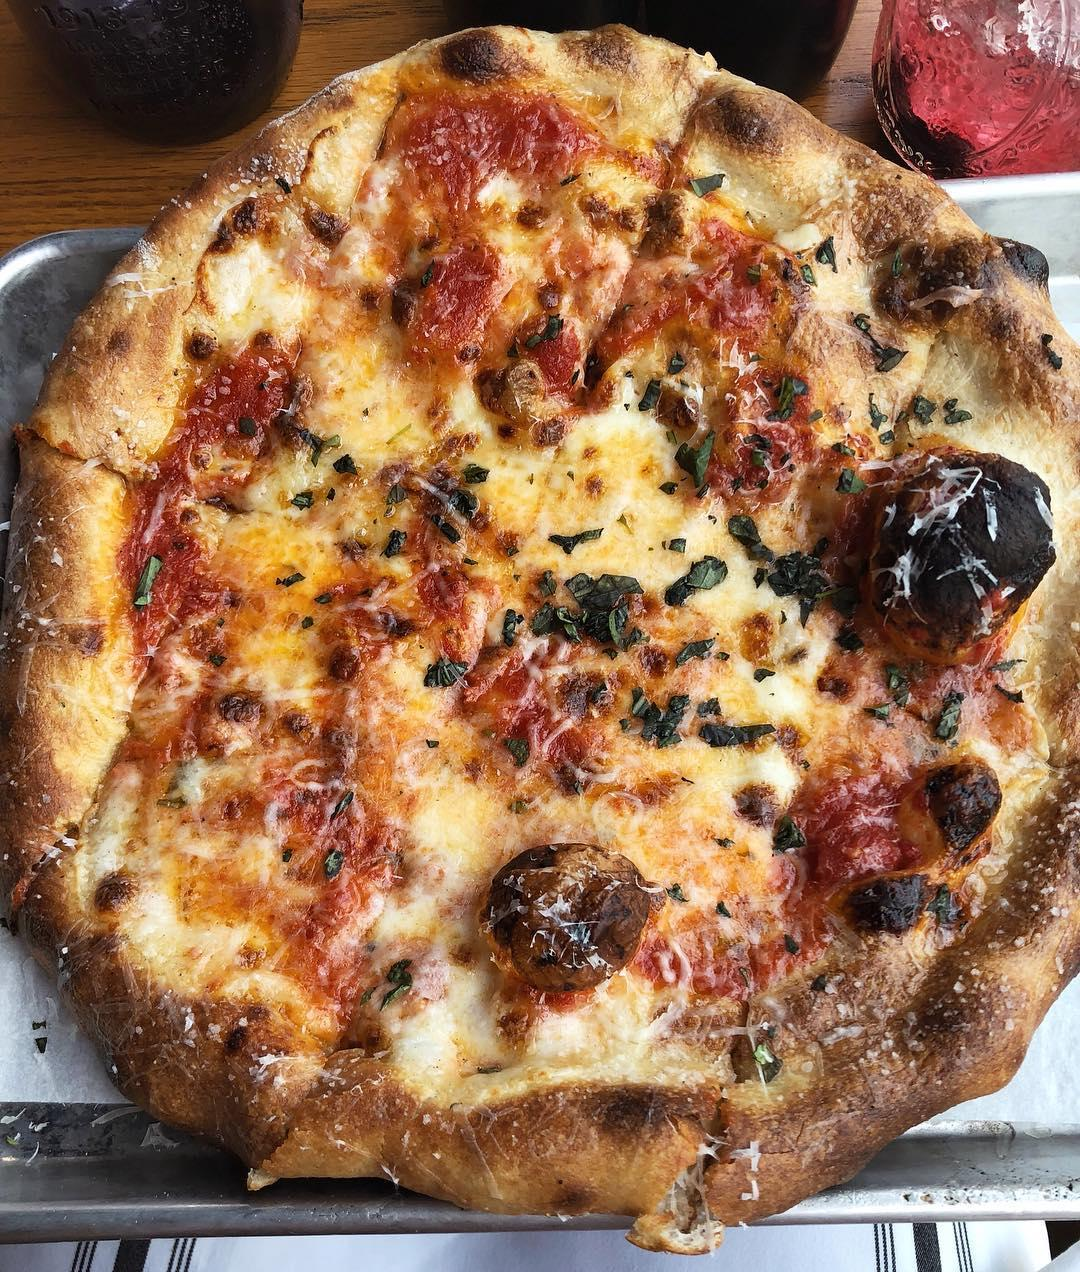Pizza: (0, 47, 1080, 1219)
